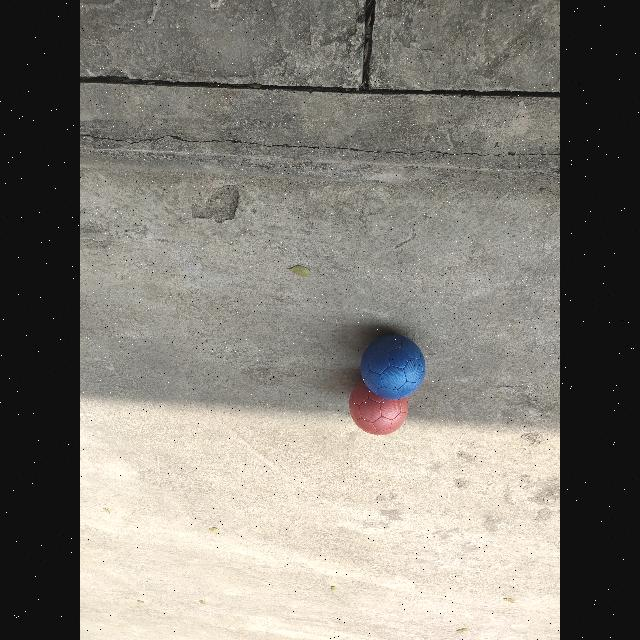B: (361, 335, 426, 399)
R: (349, 382, 408, 435)
